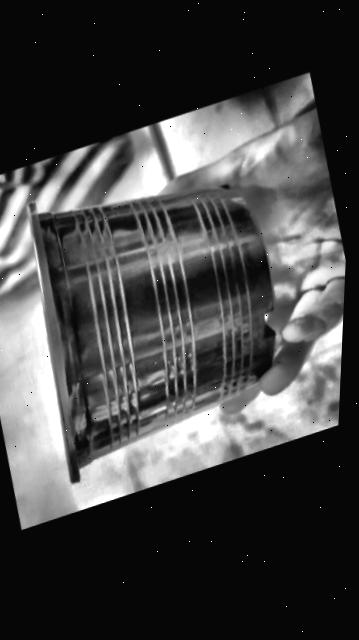pot: (28, 186, 272, 482)
